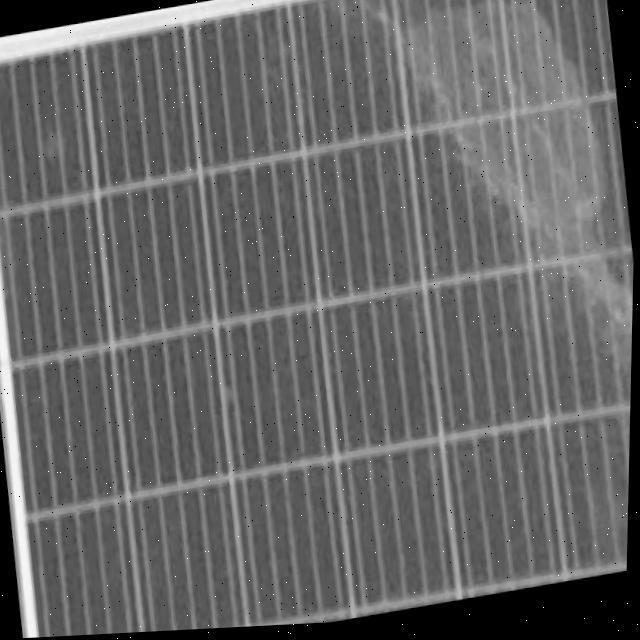Surface Contaminant: (324, 0, 635, 577)
